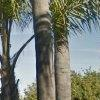Palm tree: (5, 2, 87, 86)
